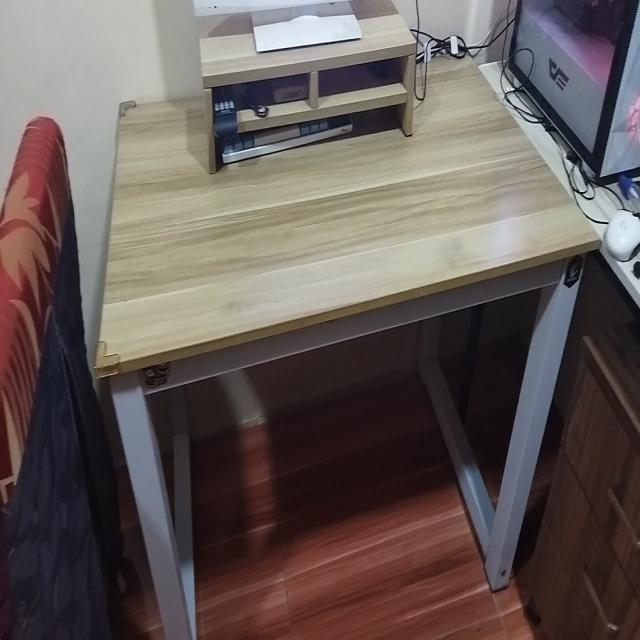table: (104, 52, 596, 640)
